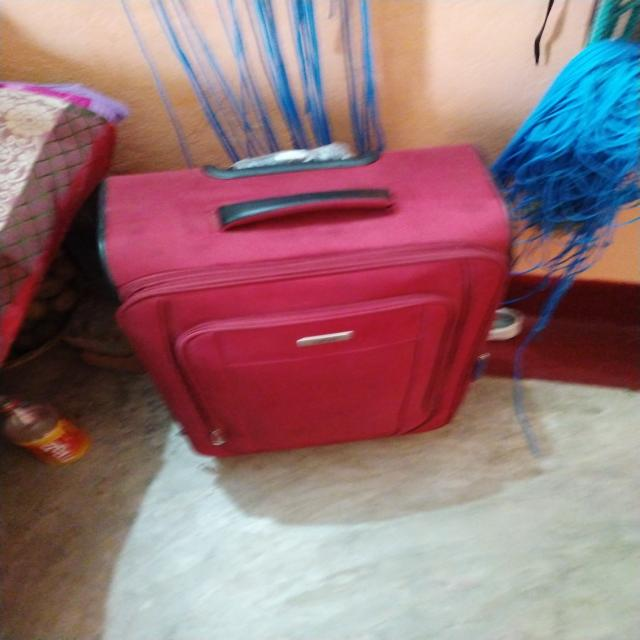suitcaserotation: (90, 140, 515, 459)
